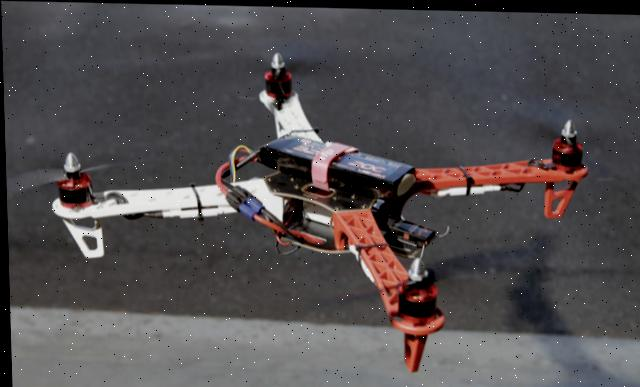drone: (33, 29, 606, 378)
